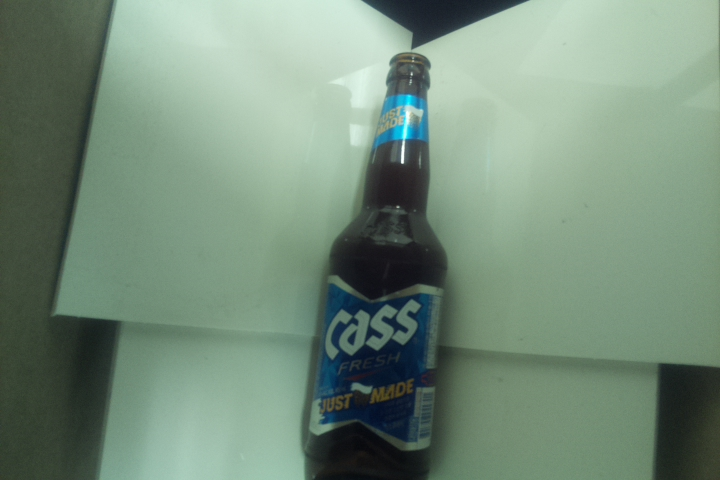makju: (297, 51, 451, 480)
